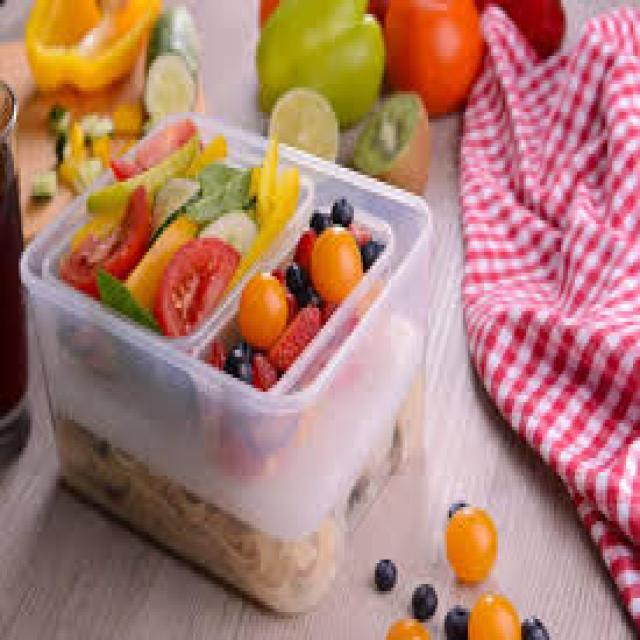disposable: (16, 101, 453, 622)
